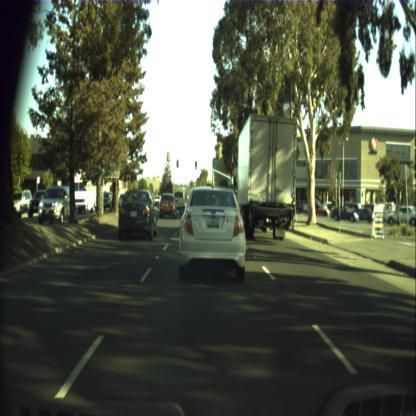Green: (194, 160, 196, 169)
RedLeft: (176, 158, 178, 168)
